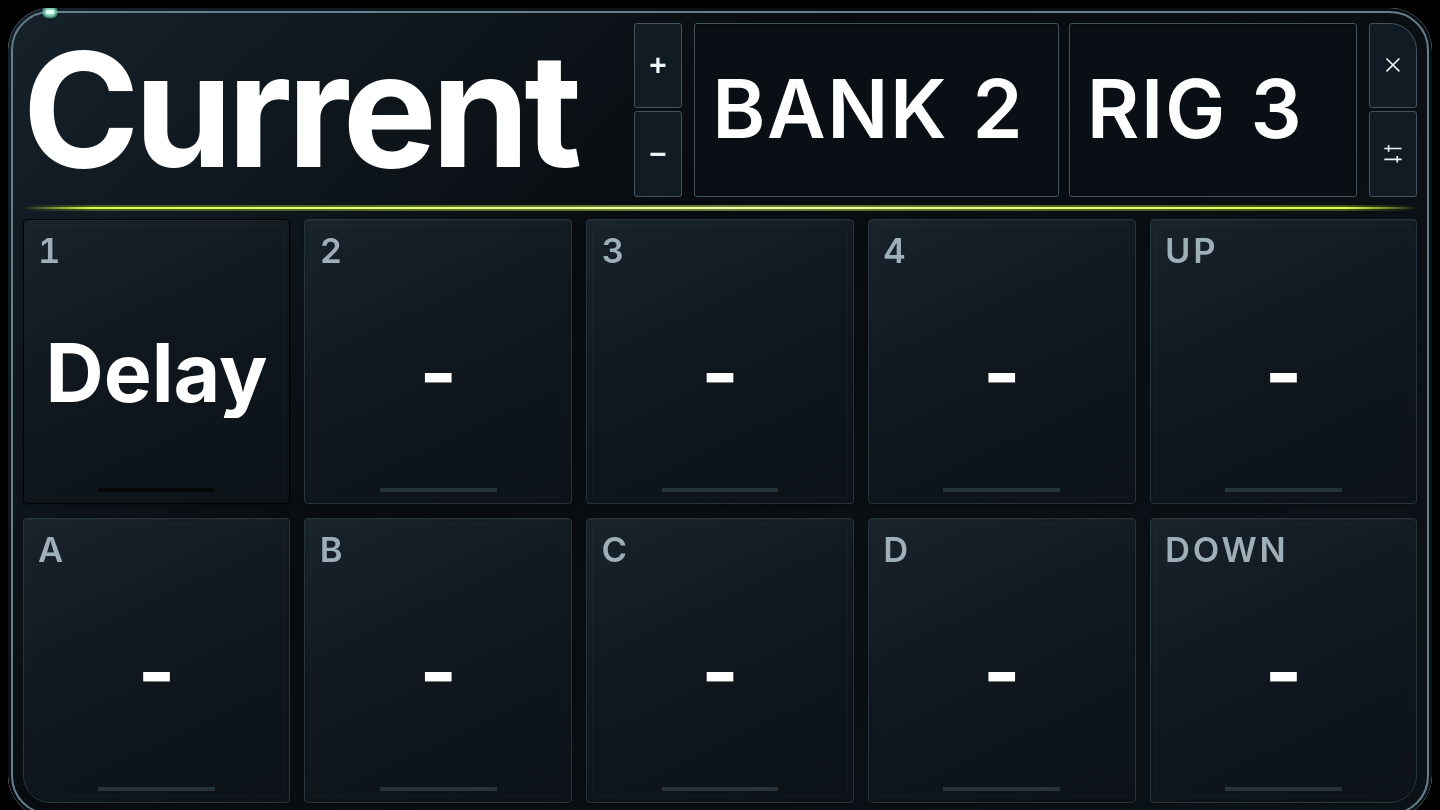
Test: StageView › switch input › reports firmware ERROR without retrying or painting a successful action
This screenshot has width=1440, height=810.
Click the button with class "stage__switch" showing "Delay 1" at point(156, 362), box [23, 220, 290, 504]
Wait 6000 ms
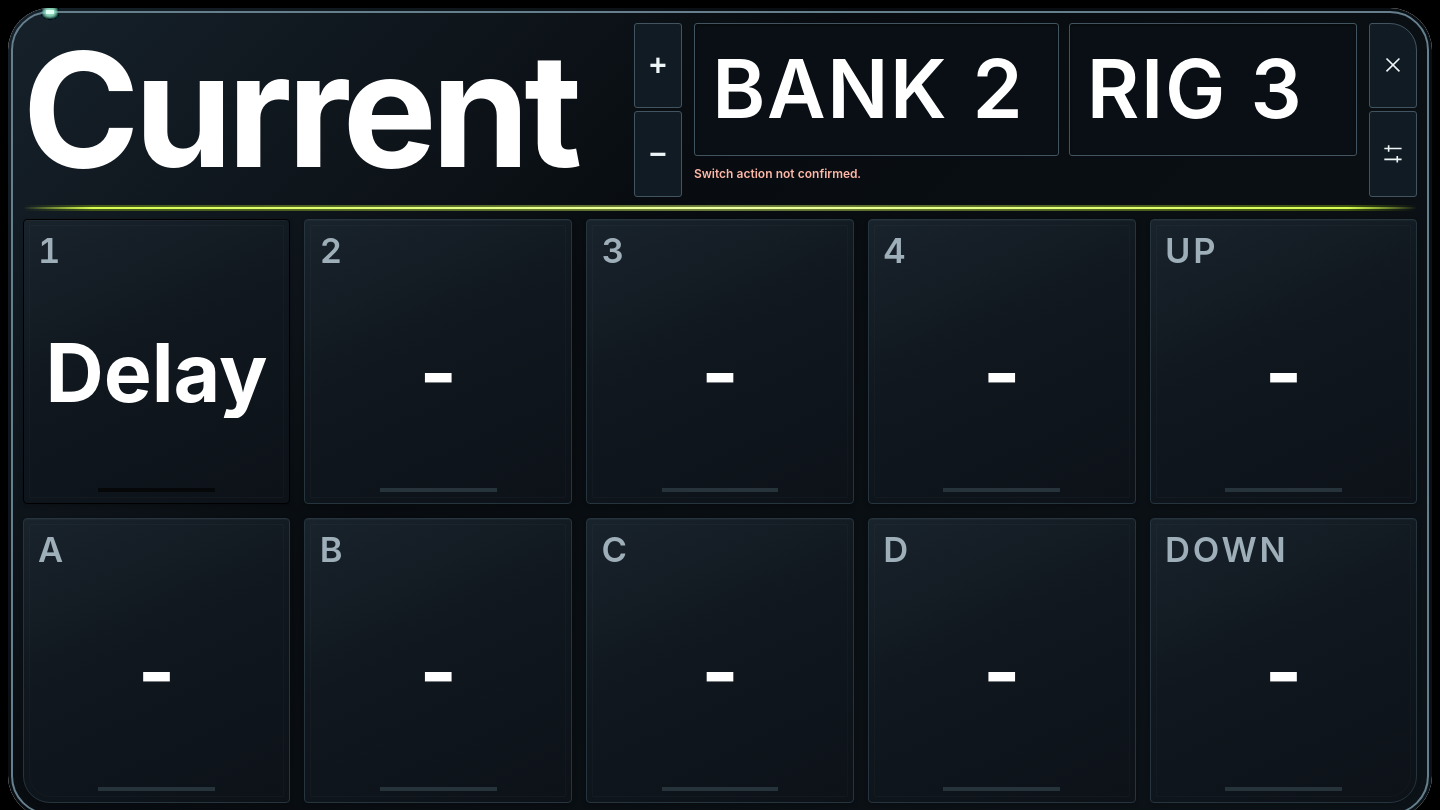
Now the message reads "Switch action not confirmed.", box [694, 166, 861, 181]
